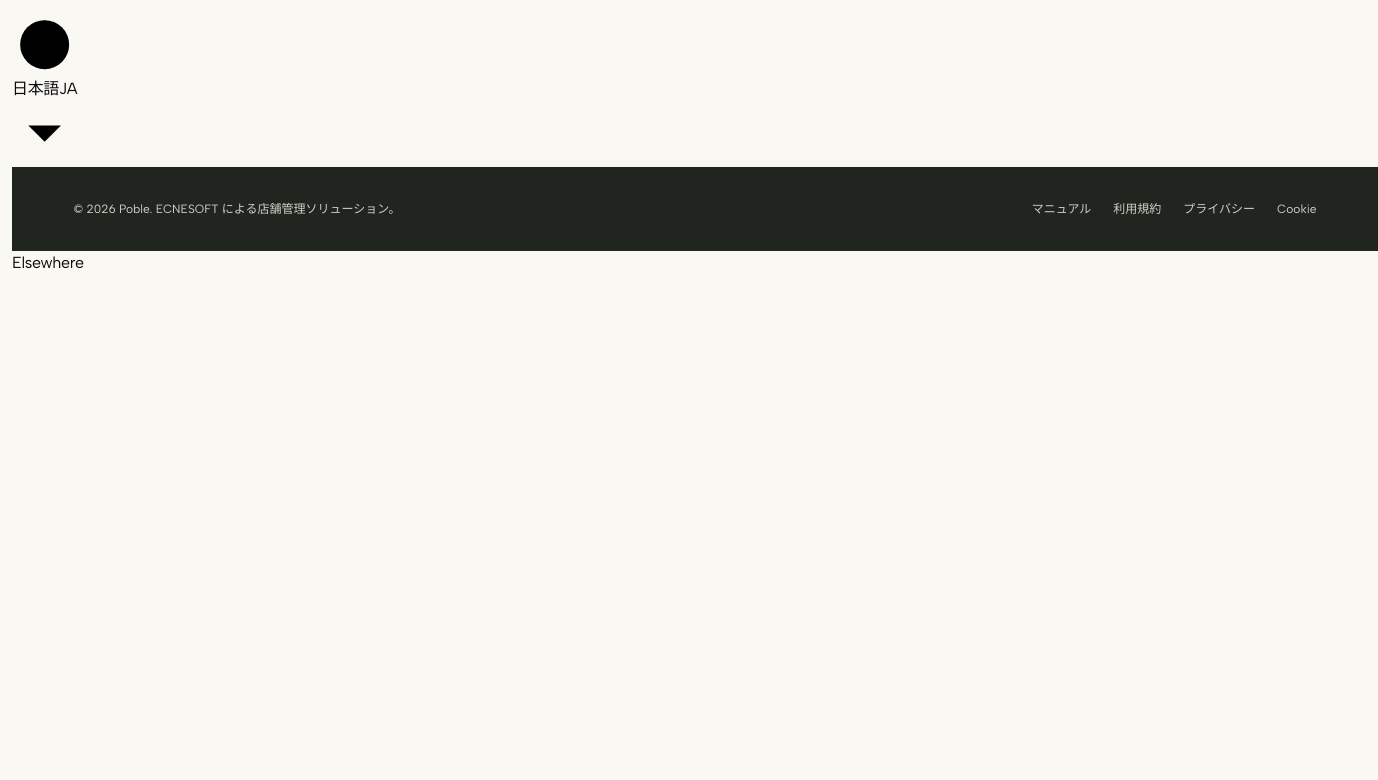
Test: LanguageSelector › does nothing when the current language is chosen again
What coordinates should you click on to do the following:
click the button with aria-label "言語：日本語"
I would click on:
 (45, 89)
Its box is [12,12,77,167].
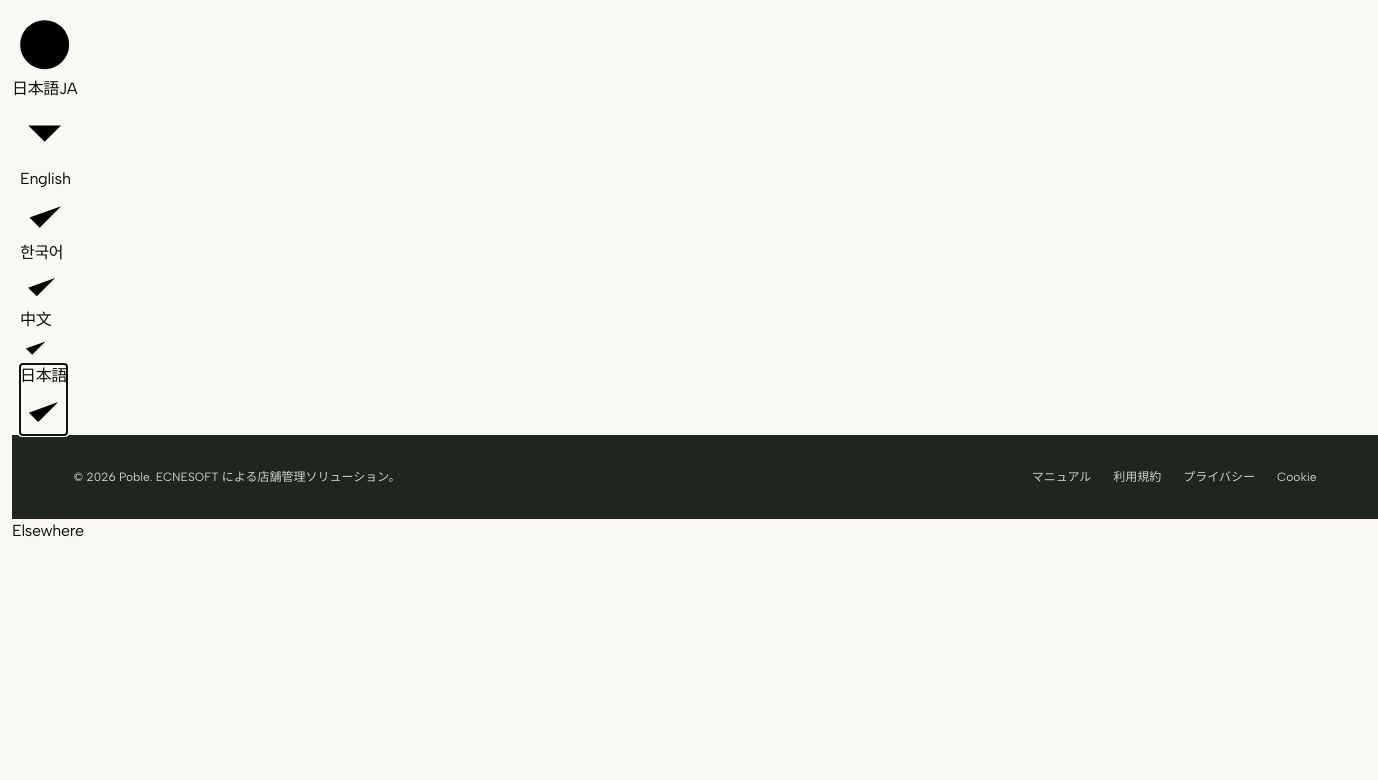
What coordinates should you click on to do the following:
click the menu item "日本語"
I would click on:
 (44, 399)
Its box is [20,364,67,435].
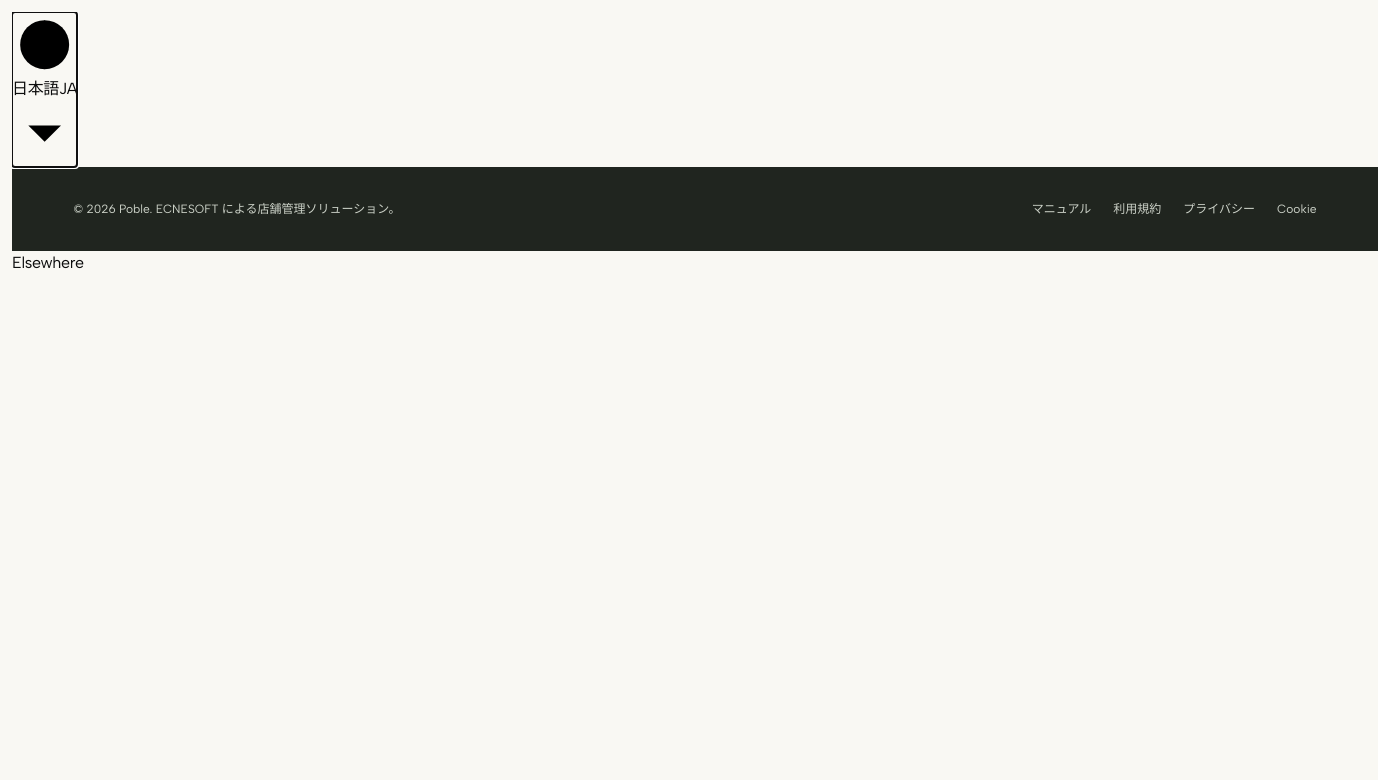
Check: the menu is gone
